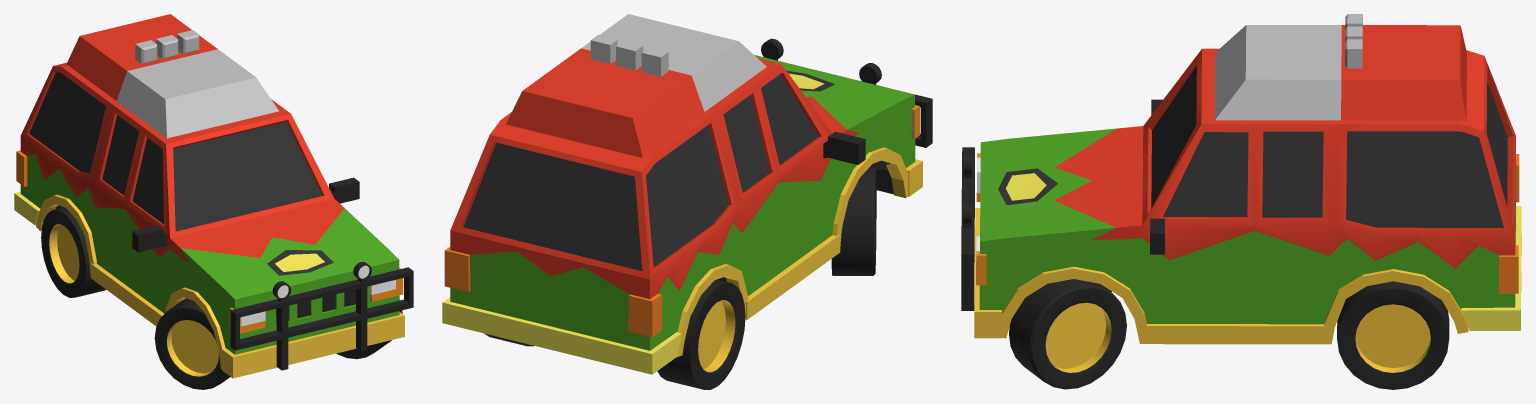
Rendered from JurassicPark_car.fbx.
The picture shows the model from 3 angles, left to right: view 1: azimuth 30°, elevation 25°; view 2: azimuth 150°, elevation 25°; view 3: azimuth 270°, elevation 25°; orthographic projection. The views are drawn at different scales.
Visible parts, largest first — view 1: Jeep; view 2: Jeep; view 3: Jeep.
Part boxes in pixels (x1,y1,x2,y2): Jeep: (14,14,413,389); Jeep: (442,14,932,389); Jeep: (961,14,1521,389).
Size of the model in its own units: 873 by 927 by 1544.
